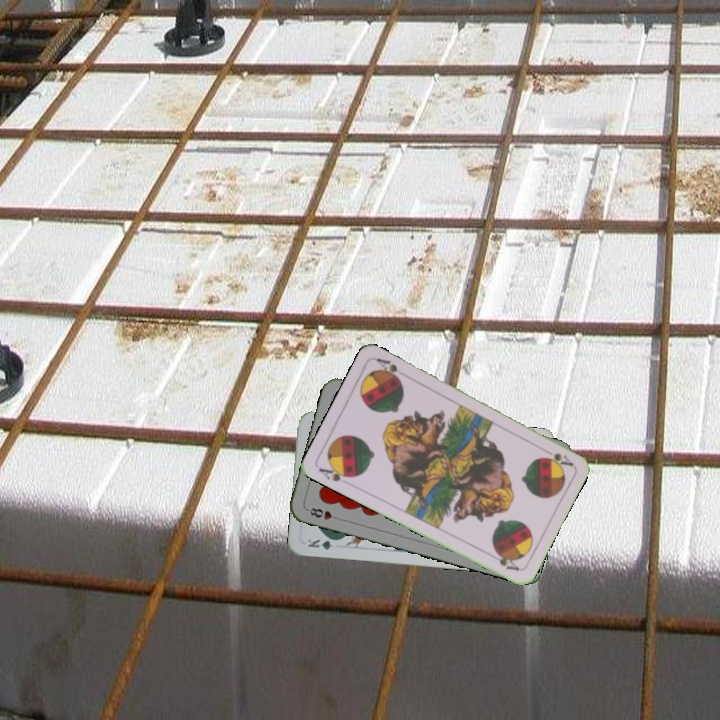GK: (304, 535, 343, 552)
H8: (303, 504, 343, 523)
SA: (314, 461, 356, 484), (537, 444, 575, 469)
